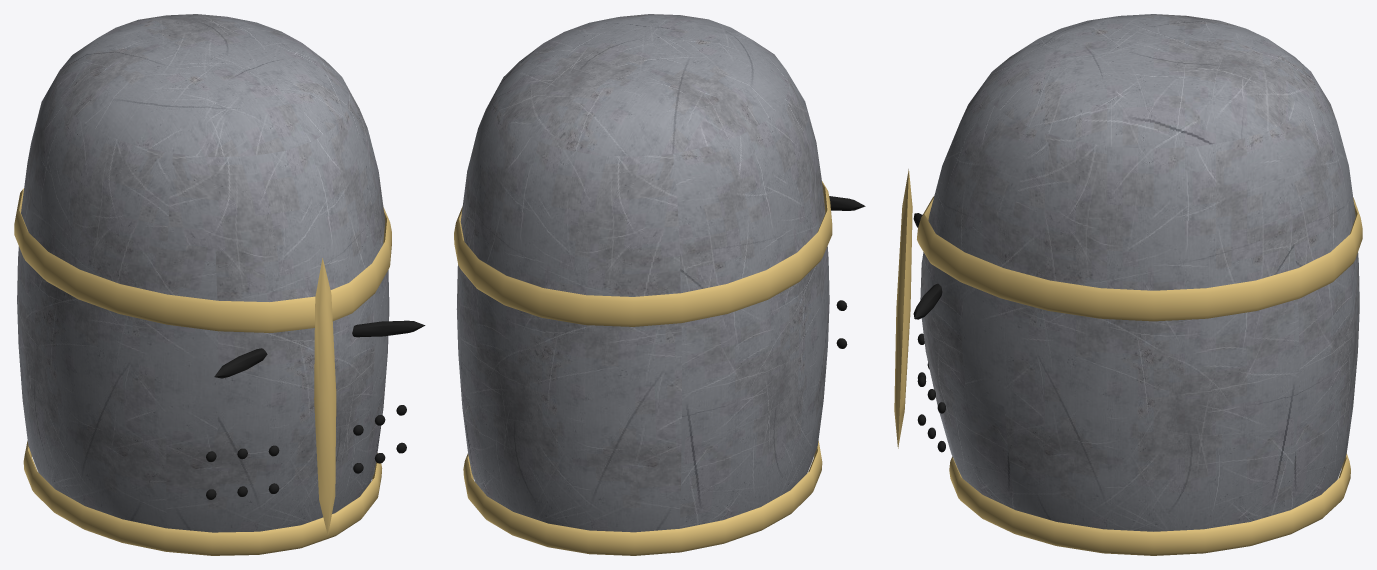
The model's file is armor_head.glb.
3 renders of one model, left to right at view 1: azimuth 30°, elevation 25°; view 2: azimuth 150°, elevation 25°; view 3: azimuth 270°, elevation 25°, orthographic. The views are drawn at different scales.
Parts seen in each view (by area): view 1: ArmorHead; view 2: ArmorHead; view 3: ArmorHead.
Boxes of the visible parts, left/top/right/bottom form: ArmorHead: left=14, top=14, right=425, bottom=555; ArmorHead: left=454, top=14, right=865, bottom=555; ArmorHead: left=894, top=14, right=1362, bottom=555.
Bounding box in the file's own units: 0.2632 × 0.34 × 0.3293.
3 materials, 1 textured.
